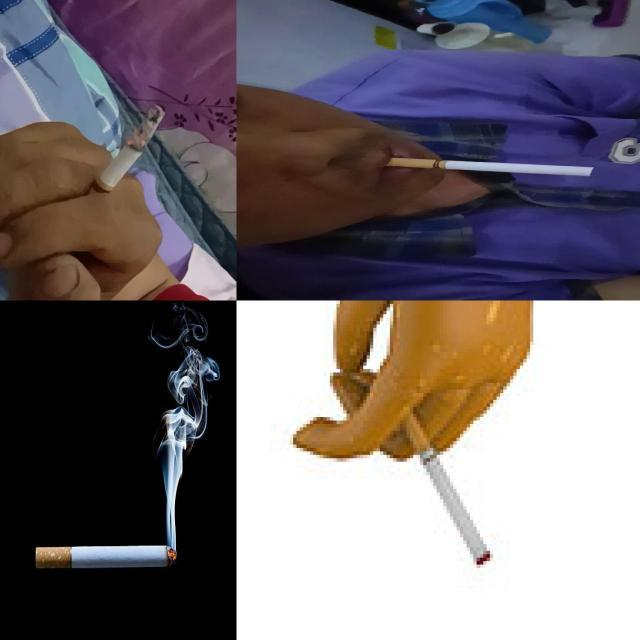smoking: (396, 406, 493, 566), (81, 104, 167, 216), (387, 157, 599, 177), (35, 546, 177, 570)
